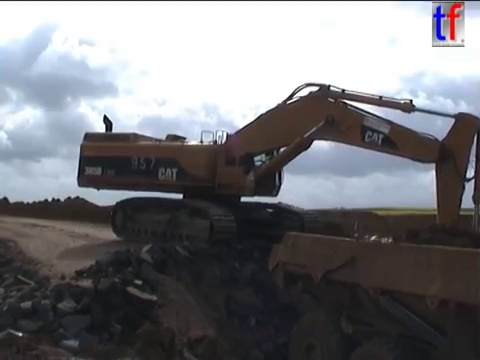excavator: (73, 79, 480, 291)
truck: (264, 212, 480, 360)
